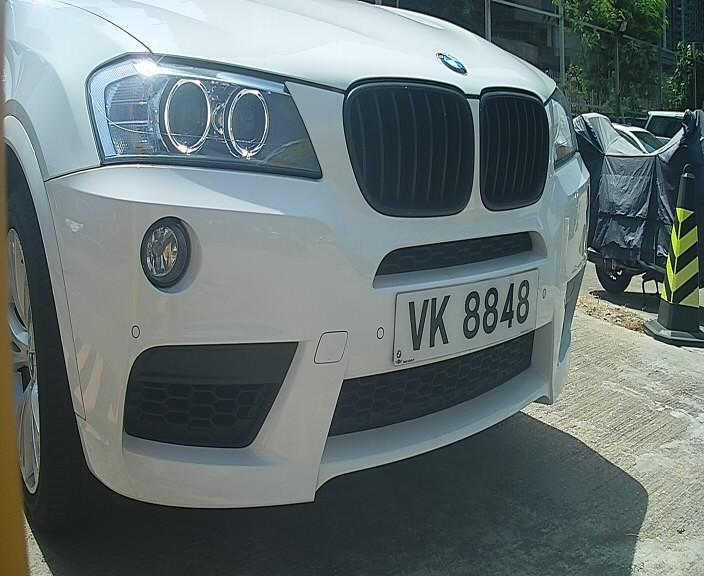License Plate: (387, 260, 538, 376)
